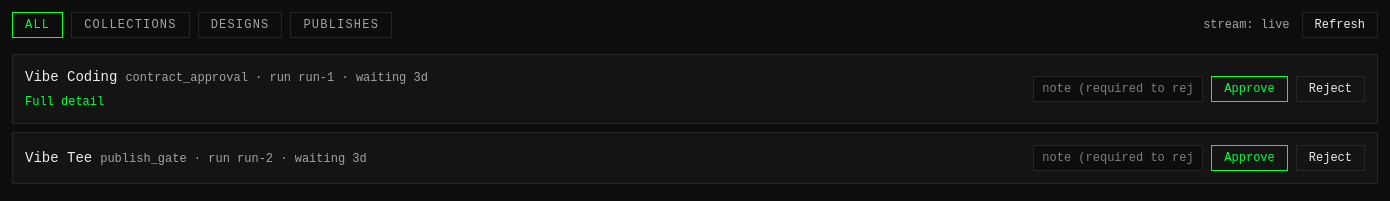
Test case: ApprovalsView › filters rows by tab
This screenshot has width=1390, height=201.
Expected: the text "Vibe Coding" is shown, [25,69,117,85]
Click the button "Publishes" at (341, 25), box [290,12,392,38]
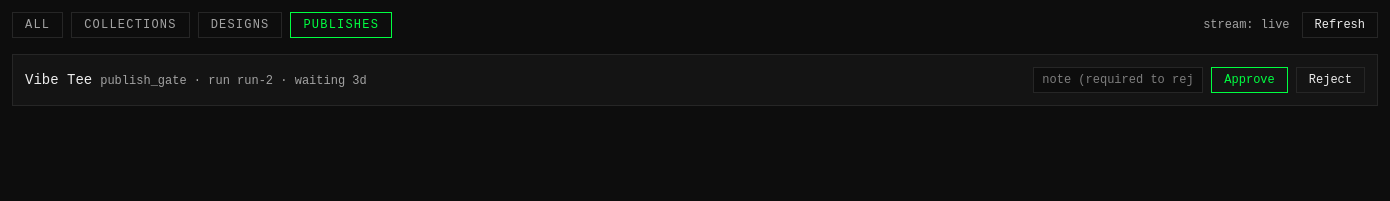
Expected: the text "Vibe Tee" is shown, [25,72,92,88]
Expected: the text "Vibe Coding" is gone
